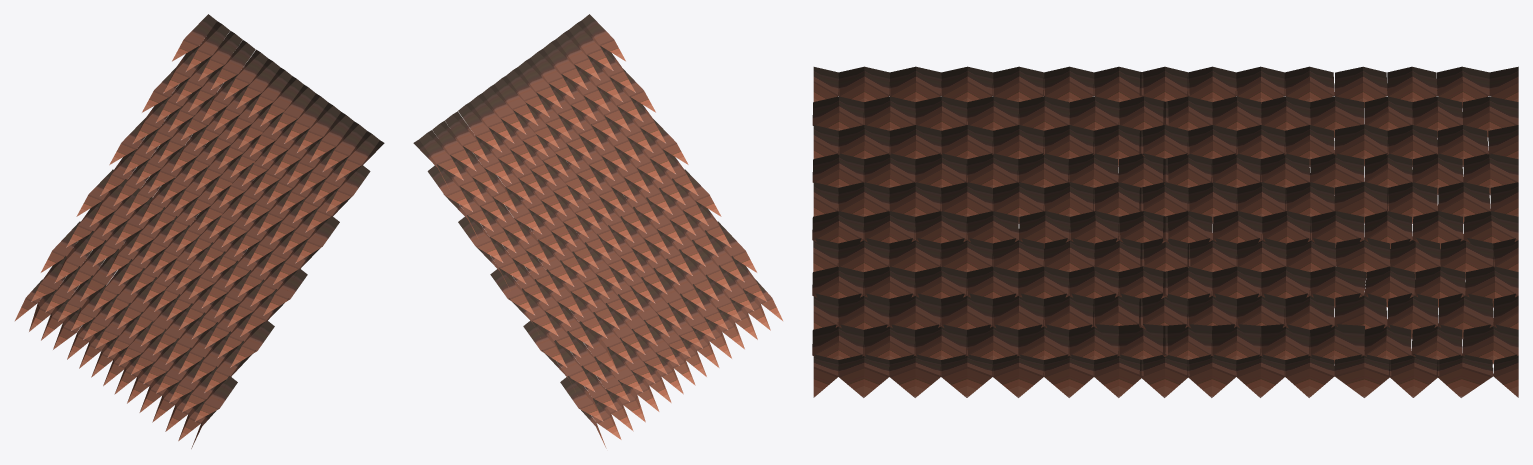
File: Square_Roof_Straight_LOD1.fbx
3 renders of one model, left to right at view 1: azimuth 30°, elevation 25°; view 2: azimuth 150°, elevation 25°; view 3: azimuth 270°, elevation 25°, orthographic. The views are drawn at different scales.
Parts seen in each view (by area): view 1: polySurface5480; view 2: polySurface5480; view 3: polySurface5480.
Part boxes in pixels (<box>): polySurface5480: <box>14,14,384,448</box>; polySurface5480: <box>413,14,783,448</box>; polySurface5480: <box>812,66,1518,397</box>.
Bounding box in the file's own units: 256 × 326 × 401.
